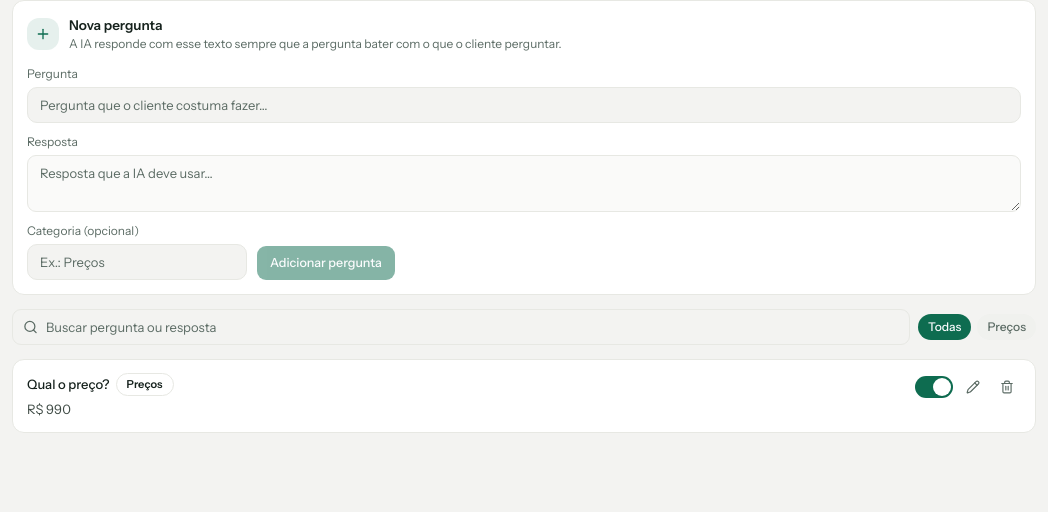
Test: AiFaqPanel (Cérebro da IA v3, Fase 2) › remove uma FAQ ao clicar em Excluir
Expected: the text "Qual o preço?" is shown, [27,375,110,394]
Click the button named "Excluir" at (1007, 387), box [993,373,1021,401]
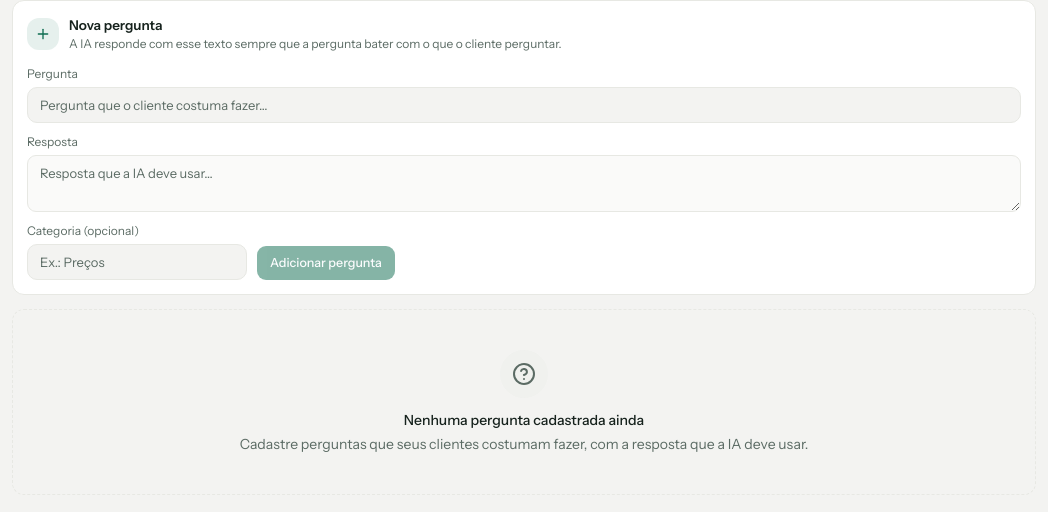
Now the text "Qual o preço?" is gone
